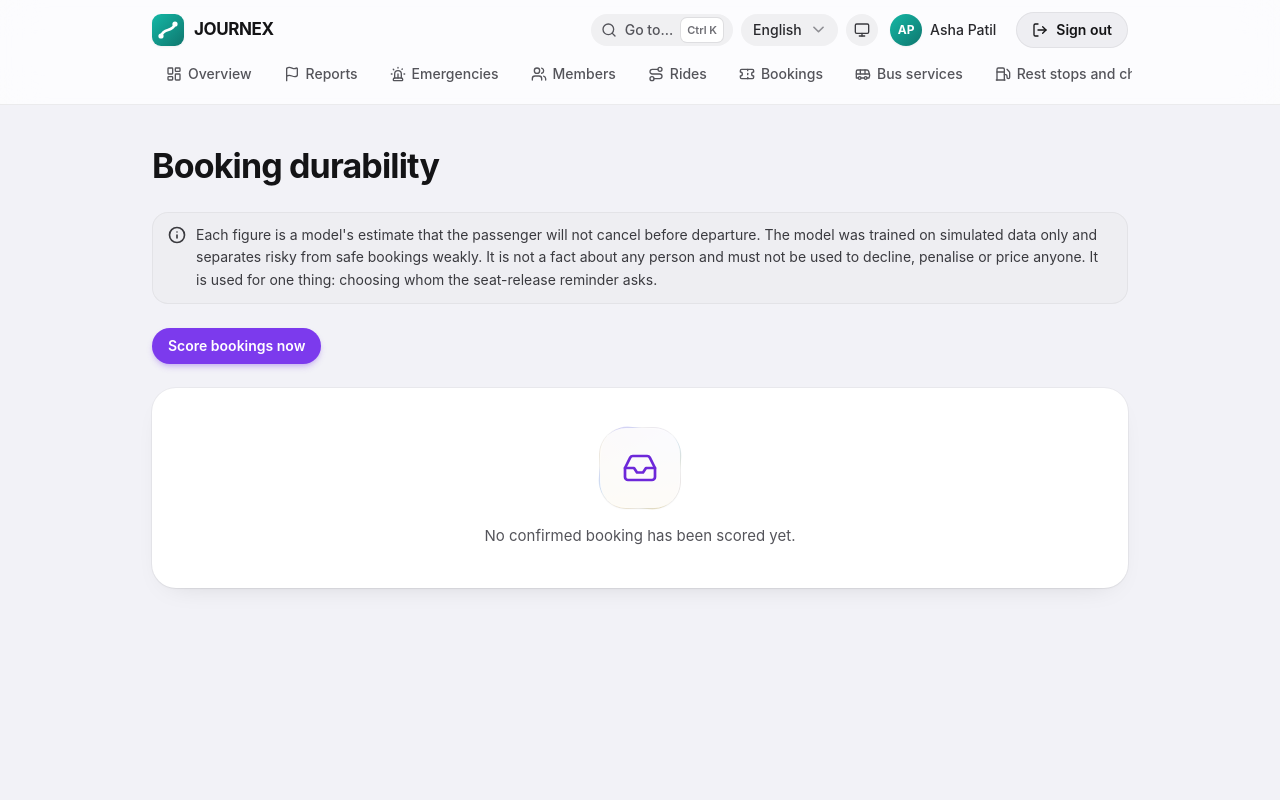
Test: booking durability (administrator) › reports what a scoring run did, including bookings the model could not score
Expected: the text "No confirmed booking has been scored yet." is shown, [484,524,795,548]
Click the button "Score bookings now" at (237, 346), box [152,328,321,364]
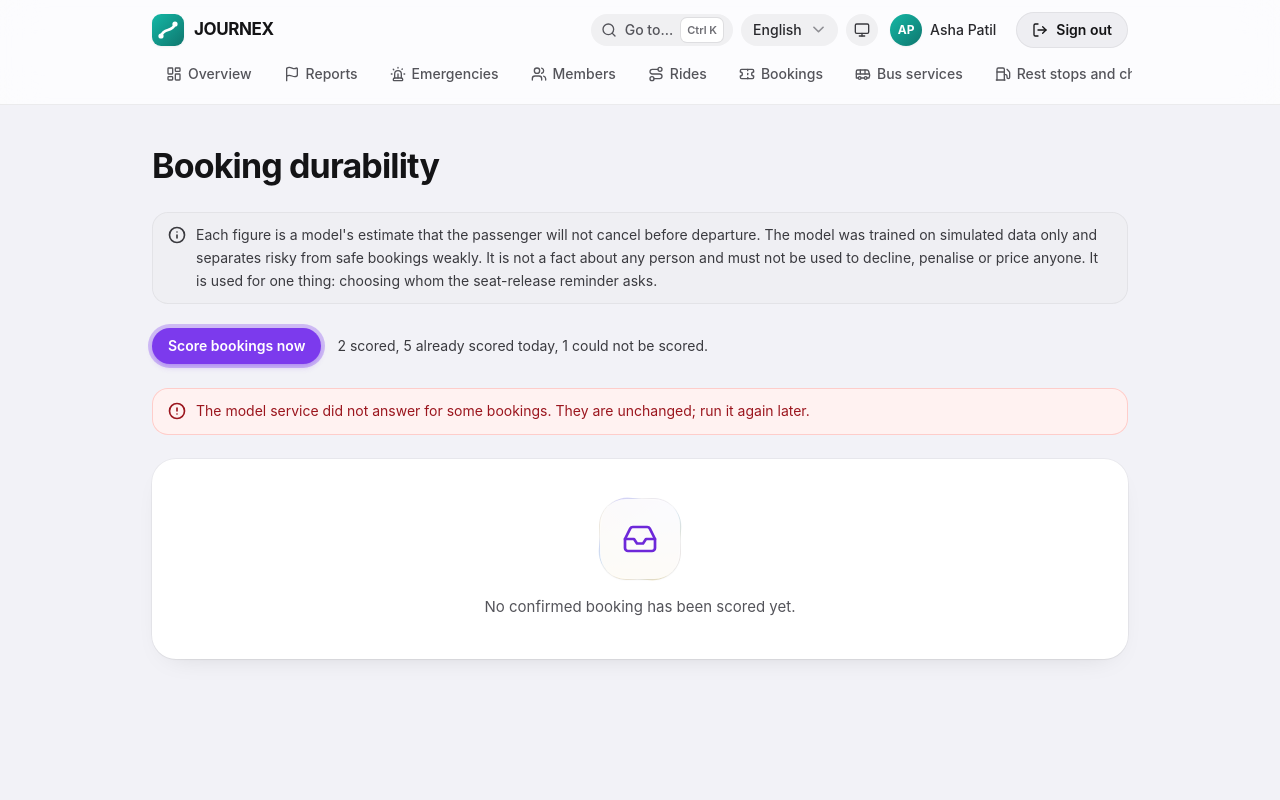
Expected: the text "2 scored, 5 already scored today, 1 could not be scored." is shown, [337,336,708,356]
Expected: the 3rd message shows "The model service did not answer", [196,402,810,419]
